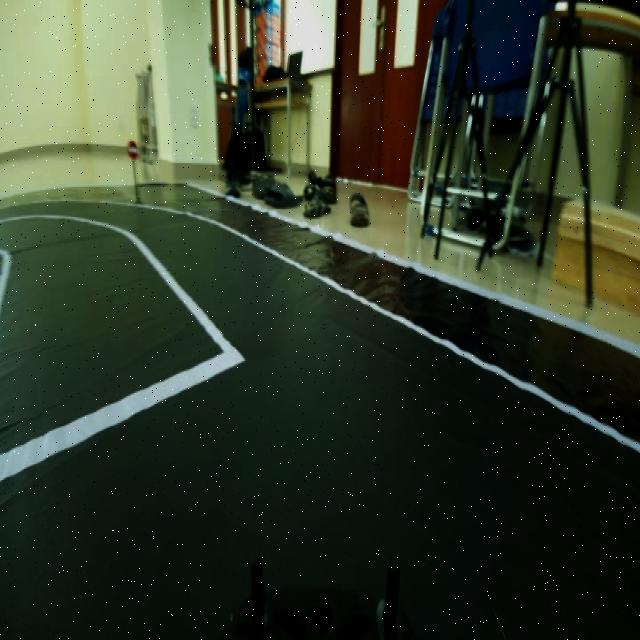no_entry: (125, 142, 141, 164)
